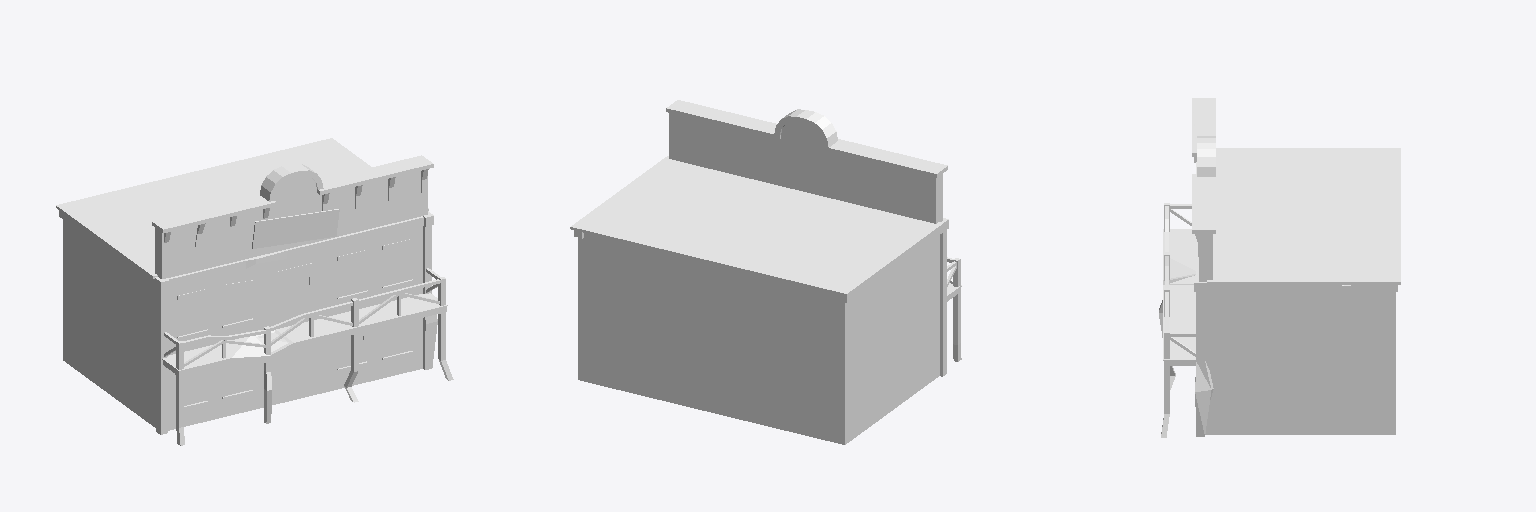
Rendered from BG_Bank.obj.
3 views of the same model, side by side, from view 1: azimuth 30°, elevation 25°; view 2: azimuth 150°, elevation 25°; view 3: azimuth 270°, elevation 25° (orthographic).
Visible parts, largest first — view 1: Bank; view 2: Bank; view 3: Bank.
Part boxes in pixels (bbox=[...]): Bank: bbox=[56, 138, 453, 445]; Bank: bbox=[570, 100, 961, 444]; Bank: bbox=[1159, 98, 1400, 437].
Size of the model in its own units: 115 by 90.52 by 86.69.